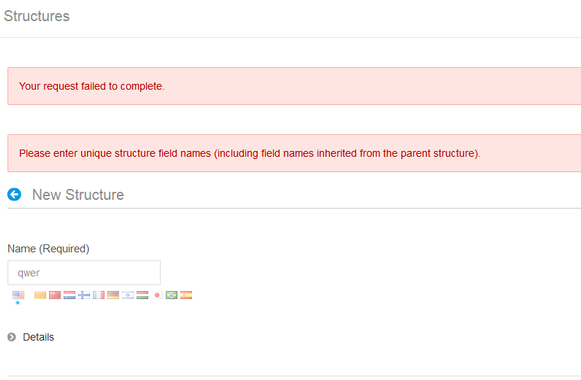error_message: (17, 146, 485, 161), (17, 78, 164, 93)
